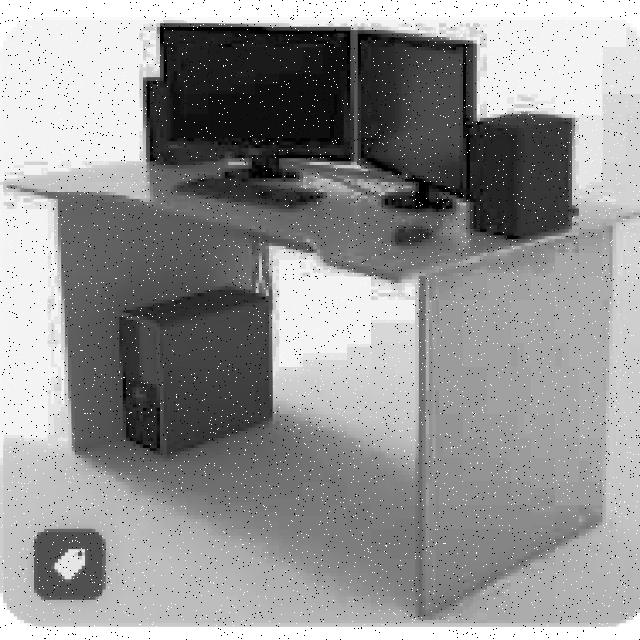table: (3, 152, 640, 616)
